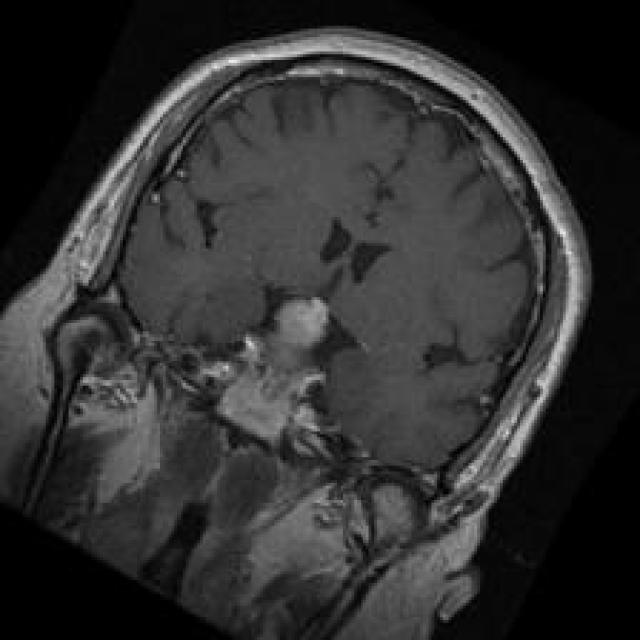pituitary_tumor: (192, 276, 352, 449)
